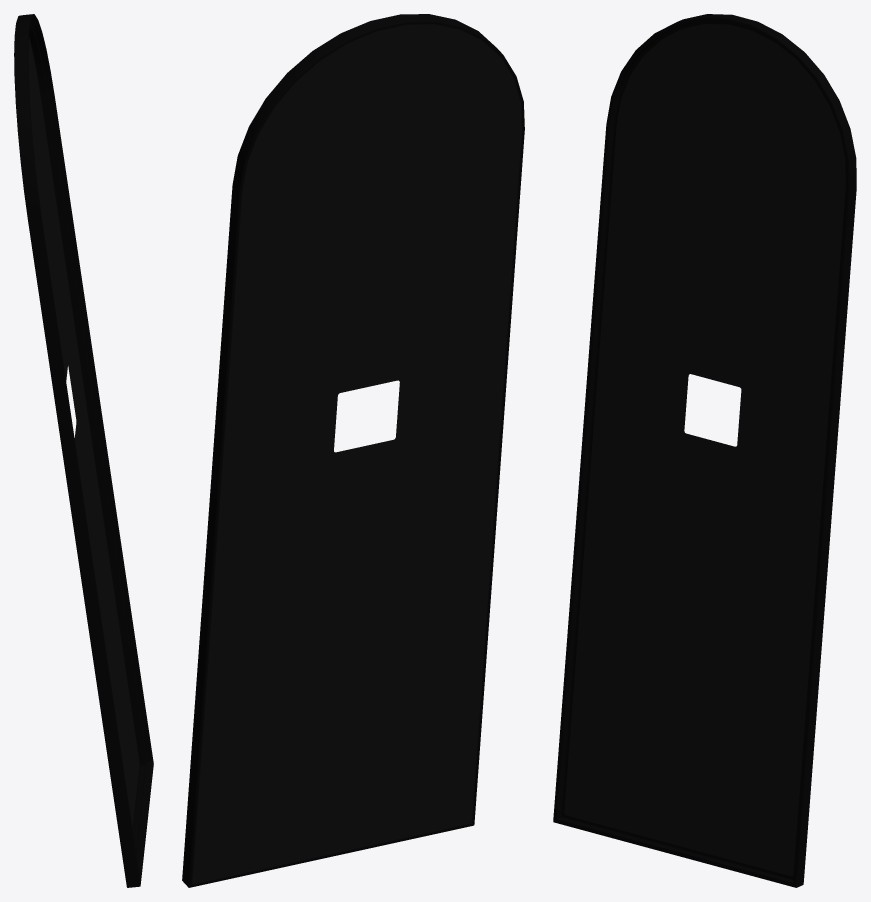
The model's file is pasqyr_dhom.fbx.
The picture shows the model from 3 angles, left to right: view 1: azimuth 30°, elevation 25°; view 2: azimuth 150°, elevation 25°; view 3: azimuth 270°, elevation 25°; orthographic projection. The views are drawn at different scales.
Parts seen in each view (by area): view 1: Modelos genéricos 32 Modelos genéricos 32 [328337]; view 2: Modelos genéricos 32 Modelos genéricos 32 [328337]; view 3: Modelos genéricos 32 Modelos genéricos 32 [328337].
Boxes of the visible parts, x1=… form: Modelos genéricos 32 Modelos genéricos 32 [328337]: x1=14, y1=14, x2=153, y2=887; Modelos genéricos 32 Modelos genéricos 32 [328337]: x1=182, y1=14, x2=524, y2=887; Modelos genéricos 32 Modelos genéricos 32 [328337]: x1=553, y1=14, x2=856, y2=887.
Bounding box in the file's own units: 46.39 × 161 × 55.98.
1 material, 1 textured.
